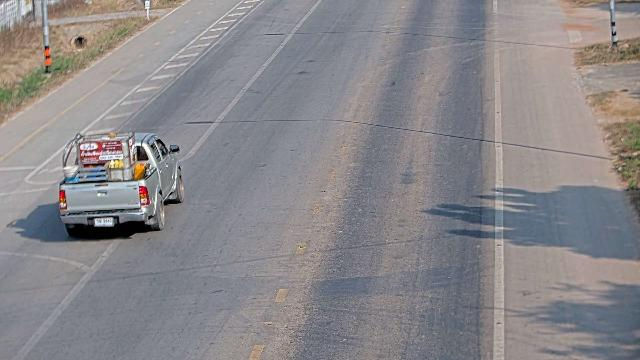pickup-truck: (57, 130, 185, 236)
